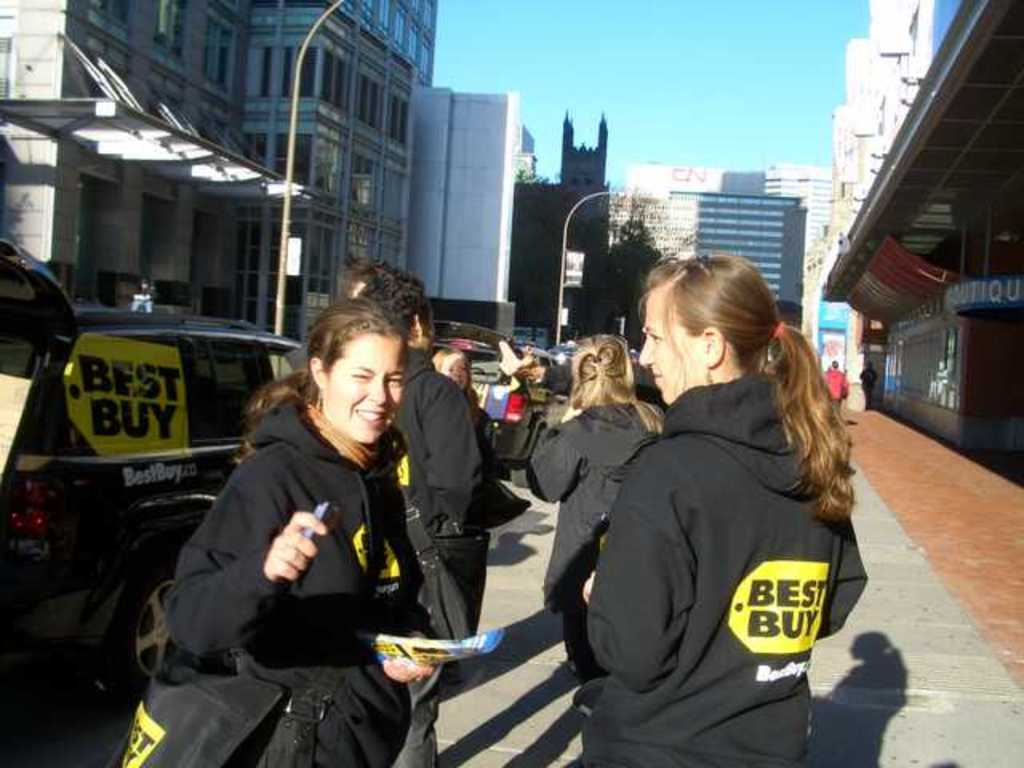cars: (0, 240, 304, 702), (418, 318, 540, 465)
